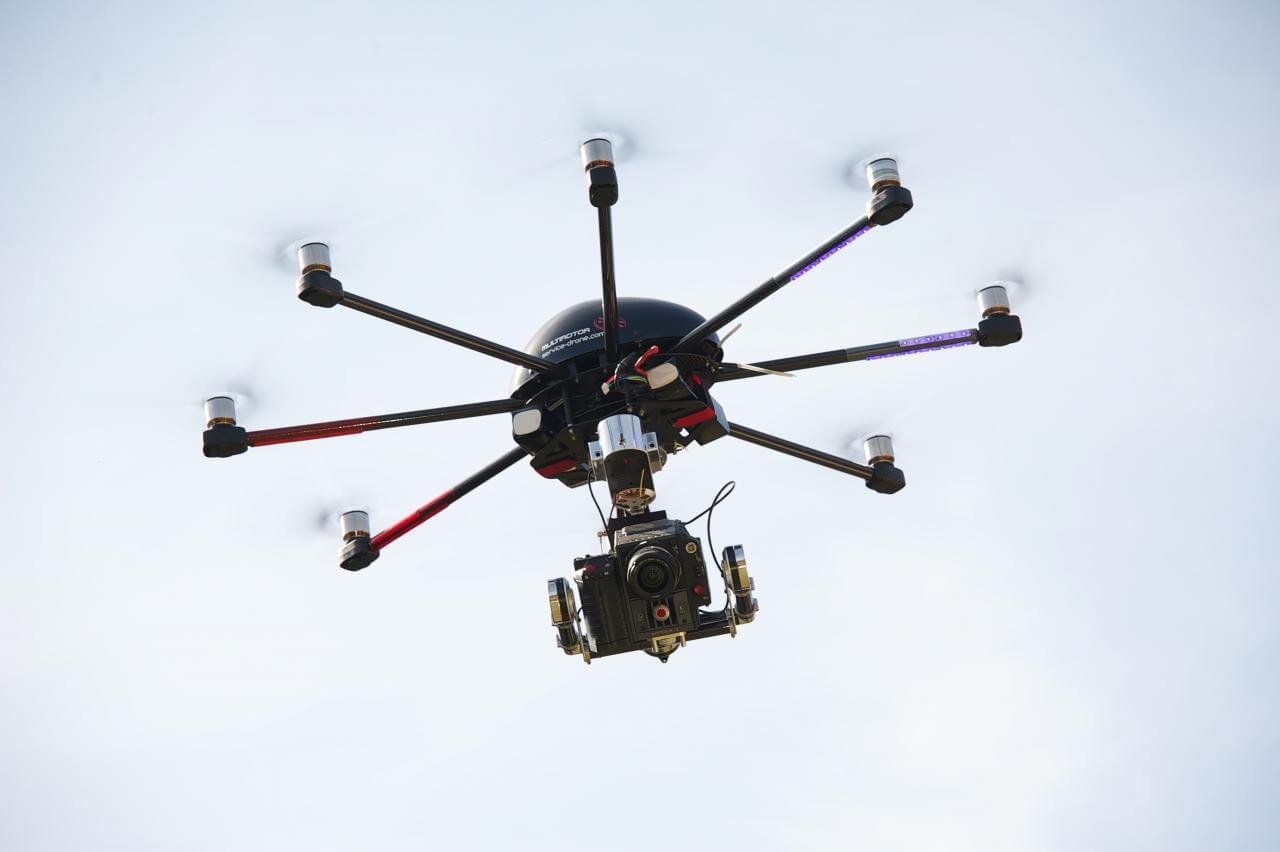drone: (138, 96, 1056, 666)
